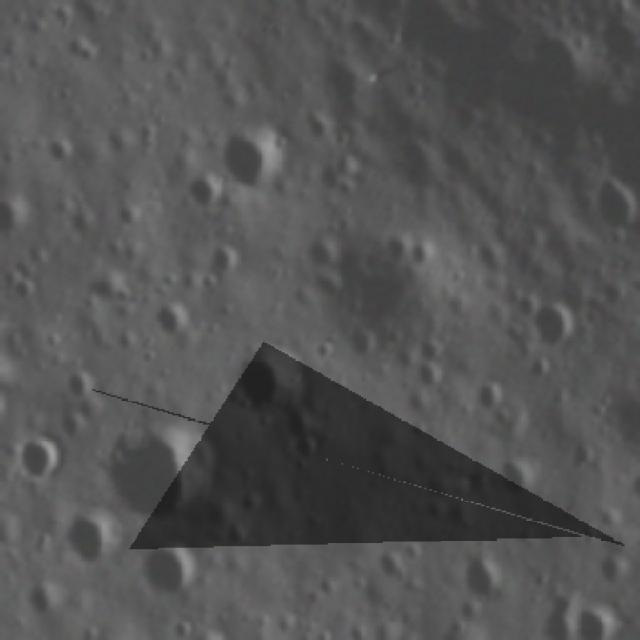crater: (112, 424, 215, 516), (226, 353, 306, 415), (228, 125, 284, 189), (65, 508, 124, 566), (142, 541, 195, 601), (590, 168, 633, 234), (530, 299, 582, 352), (482, 370, 516, 435), (494, 453, 534, 501), (20, 438, 66, 478), (460, 556, 506, 593), (372, 544, 413, 584), (205, 238, 246, 276), (568, 604, 615, 636), (155, 302, 188, 344), (32, 578, 60, 622), (406, 356, 442, 389), (187, 175, 216, 214), (292, 432, 326, 461), (14, 274, 37, 304), (60, 372, 92, 393), (50, 134, 73, 161), (408, 238, 429, 265), (314, 339, 334, 367), (448, 263, 469, 288), (590, 399, 607, 424), (46, 330, 63, 352)
